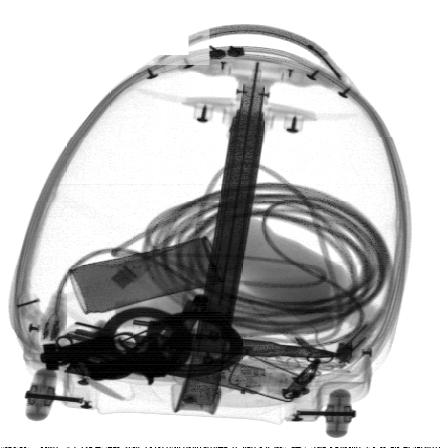Bullet: (177, 333, 341, 357)
Gun: (88, 292, 210, 380)
HandCuffs: (40, 308, 246, 379)
